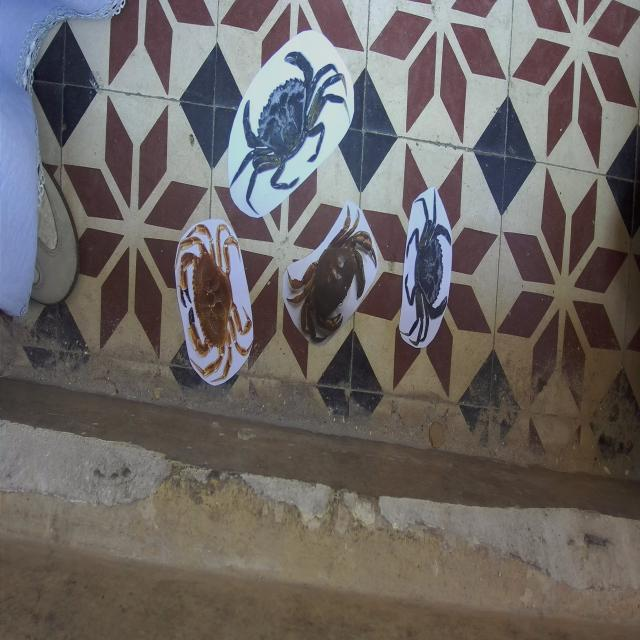European_Green_Crab: (212, 15, 358, 241), (398, 181, 457, 354)
